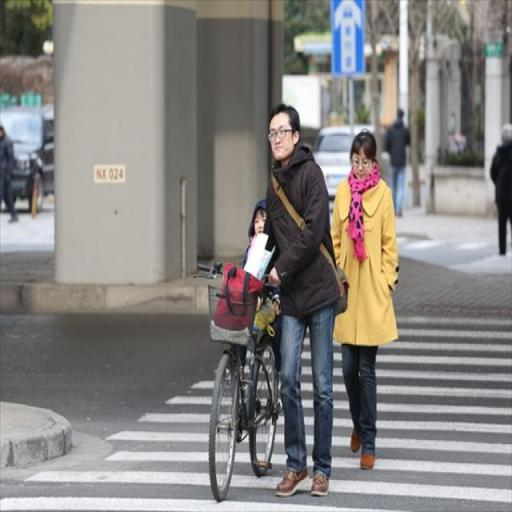person: (266, 105, 340, 499), (336, 132, 401, 471), (382, 109, 412, 218), (490, 124, 512, 256), (1, 124, 21, 224)
